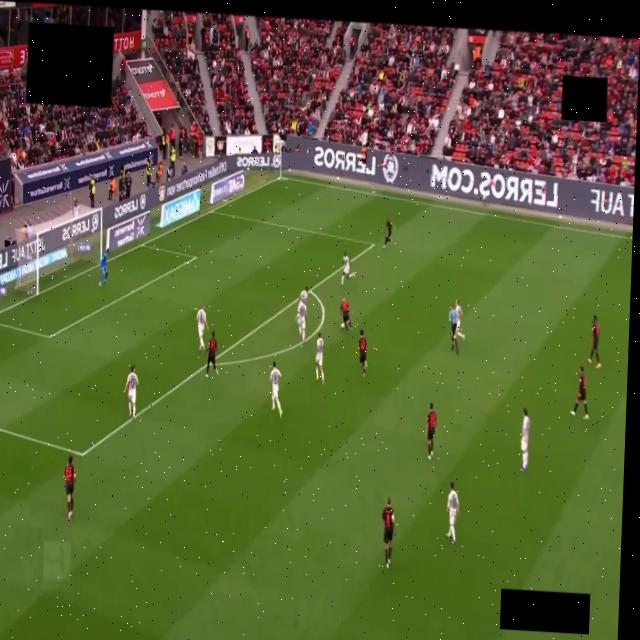ball: (340, 322, 345, 330)
player: (570, 366, 588, 419), (382, 498, 394, 568), (446, 483, 458, 544), (64, 455, 75, 521), (587, 316, 600, 369), (124, 366, 137, 419), (269, 361, 281, 416), (426, 402, 436, 459), (520, 408, 529, 471), (205, 332, 217, 377), (340, 252, 354, 285), (196, 307, 206, 350), (357, 330, 366, 377), (315, 333, 323, 383), (340, 298, 351, 331), (296, 301, 305, 341), (455, 300, 464, 339), (99, 249, 108, 286), (383, 218, 393, 247), (299, 286, 308, 303)
referee: (448, 305, 457, 355)
